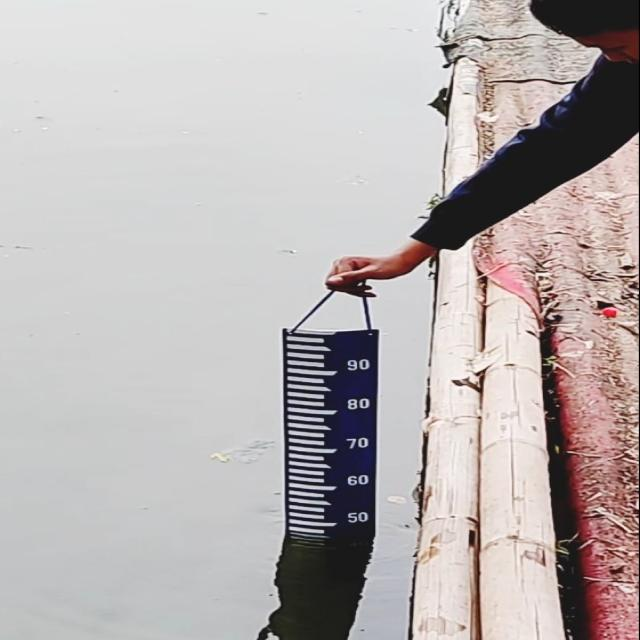50: (345, 508, 371, 524)
60: (344, 472, 372, 488)
70: (342, 434, 371, 451)
80: (345, 395, 371, 411)
90: (345, 355, 371, 373)
staff: (282, 327, 377, 539)
